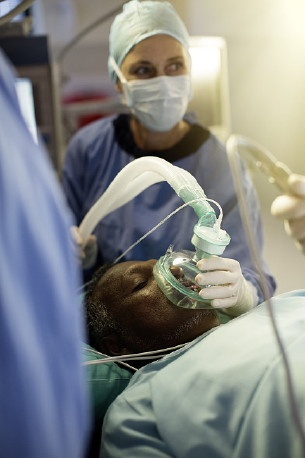Mask: (120, 54, 196, 130)
